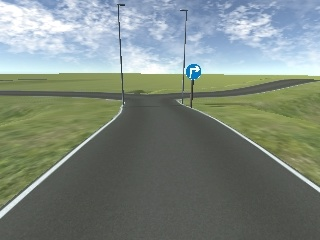turn_right_sign: (182, 60, 202, 79)
